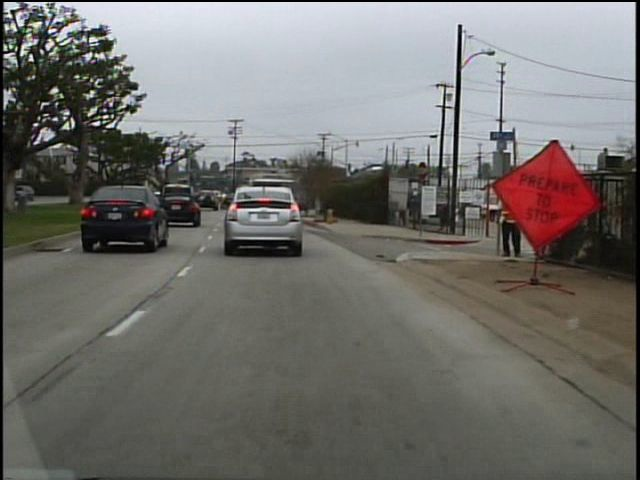person: (491, 178, 528, 260)
